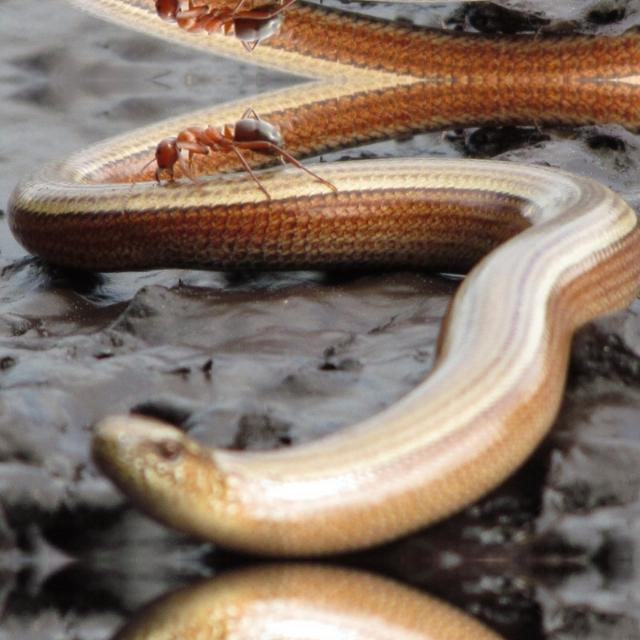Formica: (142, 104, 302, 204), (142, 0, 300, 56)
